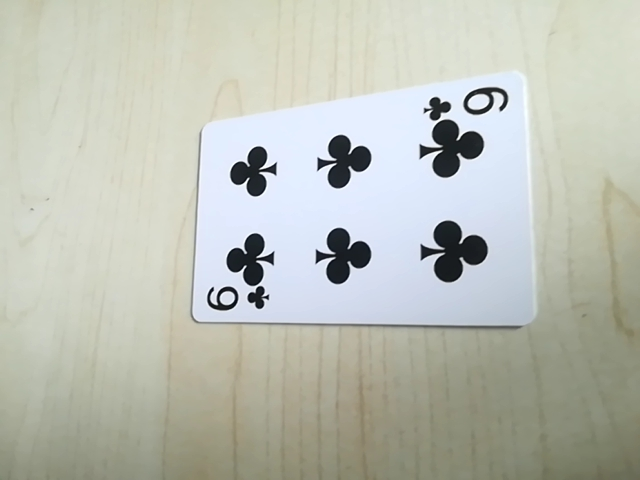mh 6: (422, 85, 511, 121), (200, 283, 272, 319)
